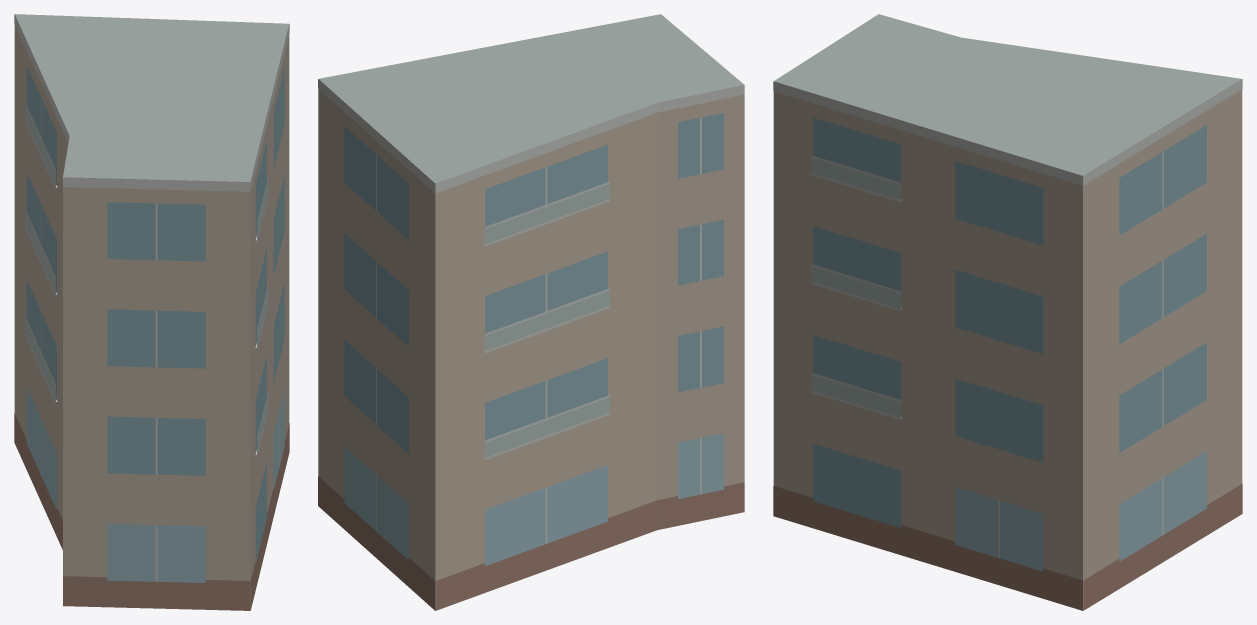
The model's file is survey-upis-33024727.glb.
3 renders of one model, left to right at view 1: azimuth 30°, elevation 25°; view 2: azimuth 150°, elevation 25°; view 3: azimuth 270°, elevation 25°, orthographic.
Visible parts, largest first — view 1: survey-upis-33024727.tmp; view 2: survey-upis-33024727.tmp; view 3: survey-upis-33024727.tmp.
Boxes of the visible parts, x1,y1,x2,y2 form: survey-upis-33024727.tmp: (14,14,289,610); survey-upis-33024727.tmp: (318,14,744,610); survey-upis-33024727.tmp: (773,14,1242,610).
Bounding box in the file's own units: 8.55 × 10.7 × 10.46.
